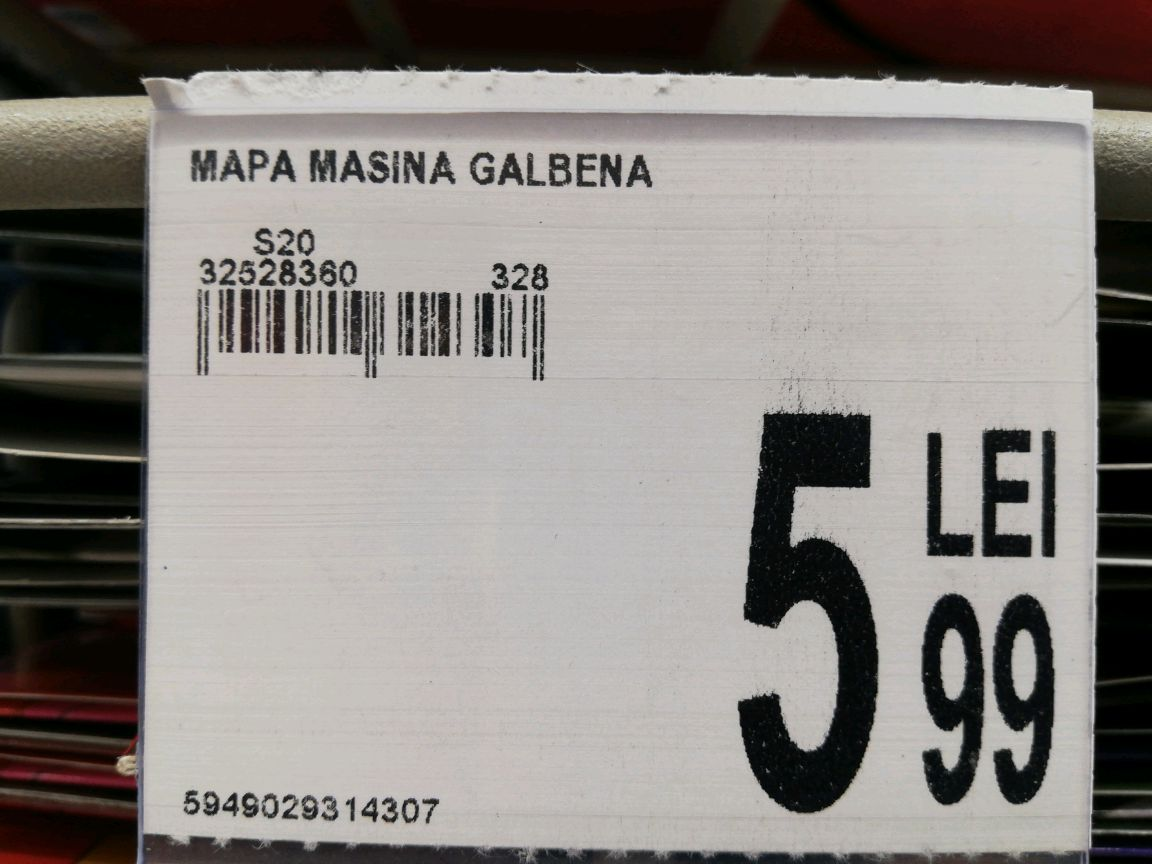price_bani: (903, 585, 1067, 818)
price_lei: (714, 399, 893, 831)
price_tag: (127, 63, 1112, 860)
product_id: (175, 782, 447, 832)
product_name: (170, 142, 676, 202)
